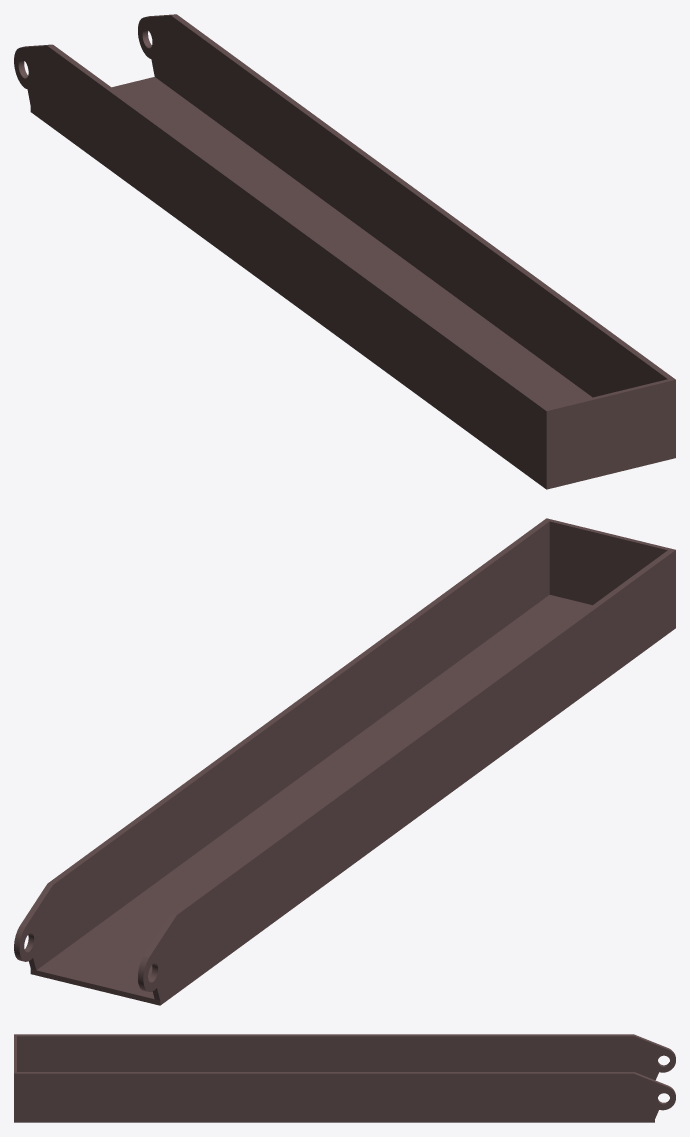
File: original_5.obj
3 renders of one model, top to bottom at view 1: azimuth 30°, elevation 25°; view 2: azimuth 150°, elevation 25°; view 3: azimuth 270°, elevation 25°, orthographic. The views are drawn at different scales.
Visible parts, largest first — view 1: Group5/mesh6/mesh6-geometry#mesh6-geometry; view 2: Group5/mesh6/mesh6-geometry#mesh6-geometry; view 3: Group5/mesh6/mesh6-geometry#mesh6-geometry.
Boxes of the visible parts, bbox=[...] form: Group5/mesh6/mesh6-geometry#mesh6-geometry: bbox=[14, 14, 675, 489]; Group5/mesh6/mesh6-geometry#mesh6-geometry: bbox=[14, 518, 675, 1005]; Group5/mesh6/mesh6-geometry#mesh6-geometry: bbox=[14, 1034, 675, 1122].
Bounding box in the file's own units: 0.1933 × 0.1119 × 1.38.
